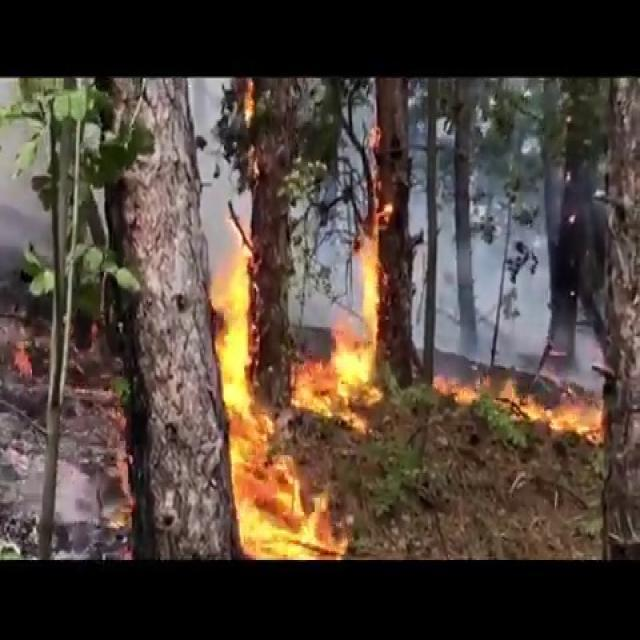Fire: (205, 239, 337, 562), (294, 211, 392, 405), (442, 366, 626, 446)
